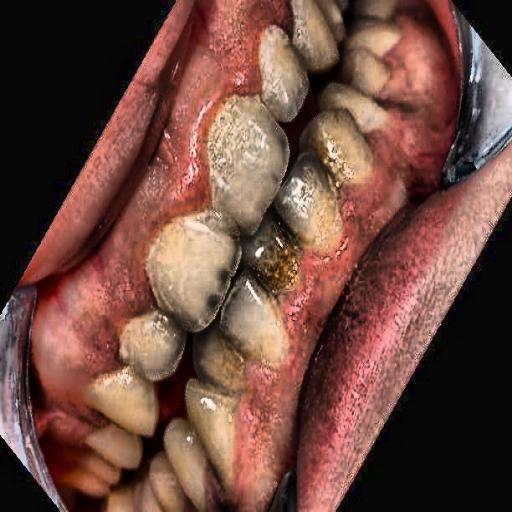Calculus: (256, 109, 371, 319)
